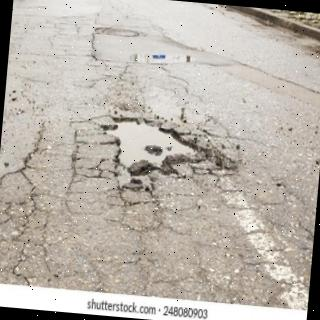pothole: (113, 125, 231, 191)
